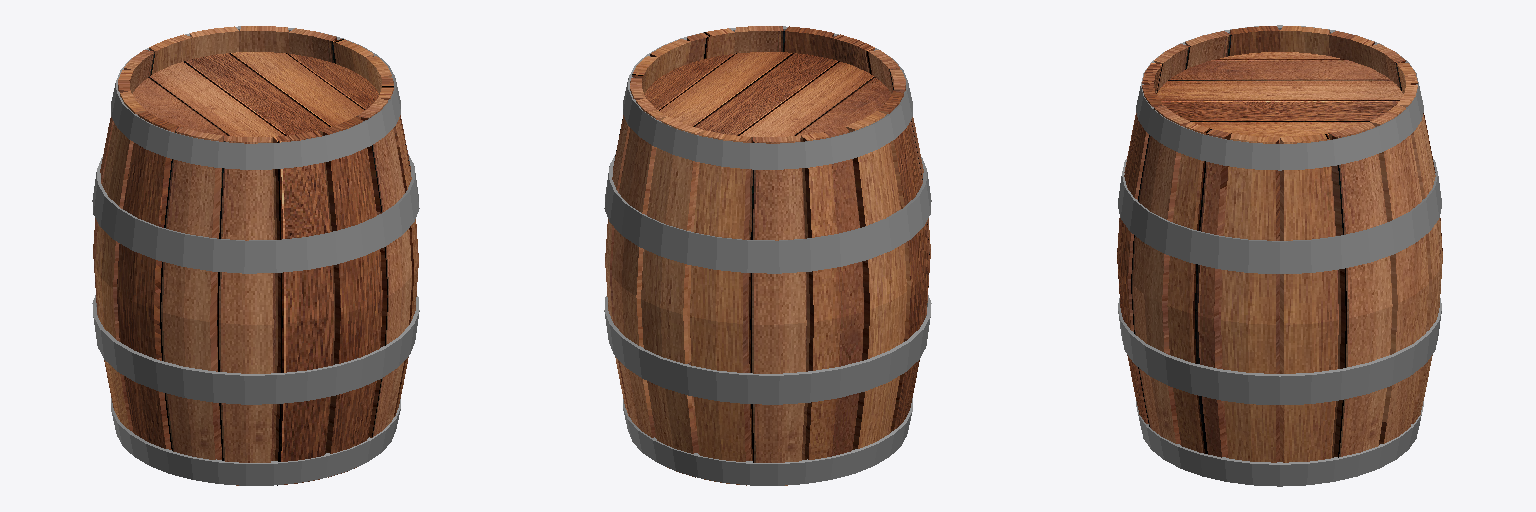
3 renders of one model, left to right at view 1: azimuth 30°, elevation 25°; view 2: azimuth 150°, elevation 25°; view 3: azimuth 270°, elevation 25°, orthographic.
Visible parts, largest first — view 1: Silinder_Bahan.001, Silinder.001_Bahan.003, Silinder.002_Bahan.002; view 2: Silinder_Bahan.001, Silinder.001_Bahan.003, Silinder.002_Bahan.002; view 3: Silinder_Bahan.001, Silinder.001_Bahan.003, Silinder.002_Bahan.002.
Part boxes in pixels (x1,y1,x2,y2): Silinder_Bahan.001: (93, 26, 418, 485); Silinder.001_Bahan.003: (92, 26, 419, 485); Silinder.002_Bahan.002: (133, 52, 378, 136); Silinder_Bahan.001: (605, 26, 930, 485); Silinder.001_Bahan.003: (604, 26, 931, 485); Silinder.002_Bahan.002: (645, 52, 890, 136); Silinder_Bahan.001: (1117, 26, 1442, 462); Silinder.001_Bahan.003: (1118, 25, 1441, 486); Silinder.002_Bahan.002: (1156, 52, 1403, 136).
Bounding box in the file's own units: 2.82 × 3.25 × 2.79.
Materials: 3 (1 with a texture image).